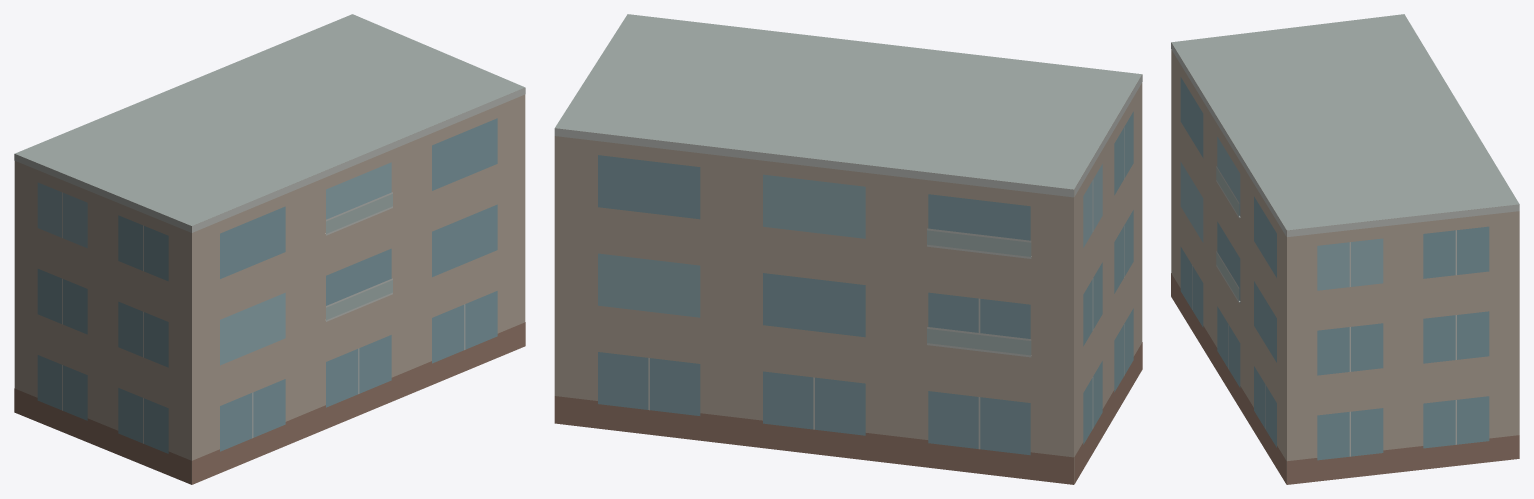
The model's file is survey-upis-32976917.glb.
3 renders of one model, left to right at view 1: azimuth 30°, elevation 25°; view 2: azimuth 150°, elevation 25°; view 3: azimuth 270°, elevation 25°, orthographic. The views are drawn at different scales.
Visible parts, largest first — view 1: survey-upis-32976917.tmp; view 2: survey-upis-32976917.tmp; view 3: survey-upis-32976917.tmp.
Part boxes in pixels (x1,y1,x2,y2): survey-upis-32976917.tmp: (14, 14, 525, 484); survey-upis-32976917.tmp: (554, 14, 1142, 484); survey-upis-32976917.tmp: (1171, 14, 1519, 484).
Size of the model in its own units: 16.7 by 9.15 by 11.37.
